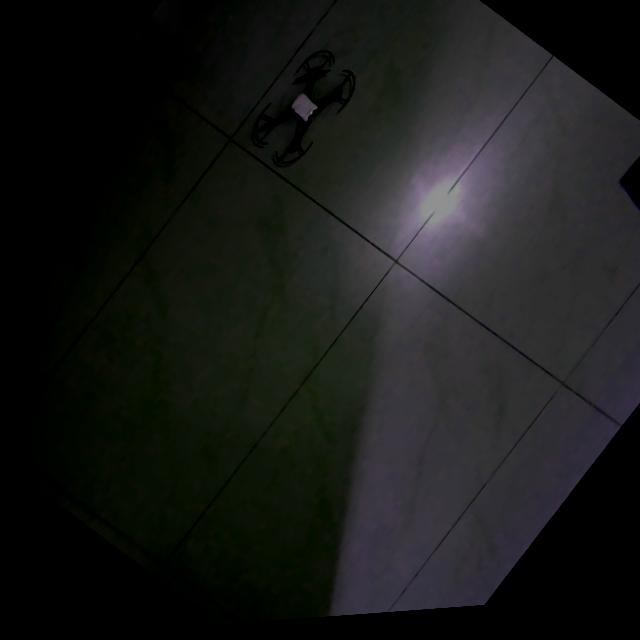drone: (252, 54, 354, 169)
